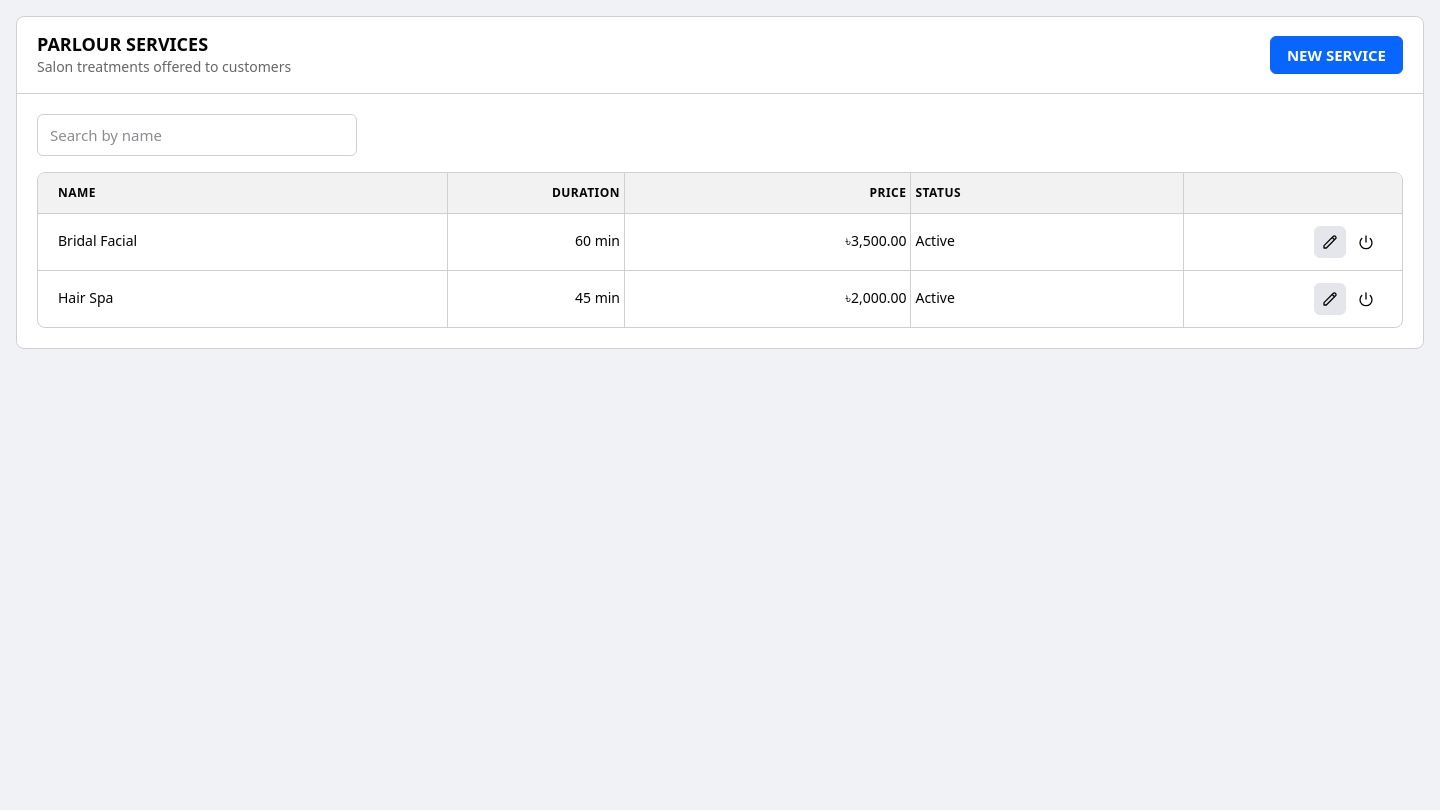
ServicesPage › submits a PATCH and updates the row when saving an edit
This screenshot has width=1440, height=810.
Expected: the text "Bridal Facial" is shown, [58,231,137,250]
Click the button named "edit" in the row of "Bridal Facial" at (1330, 242), box [1314,226,1346,258]
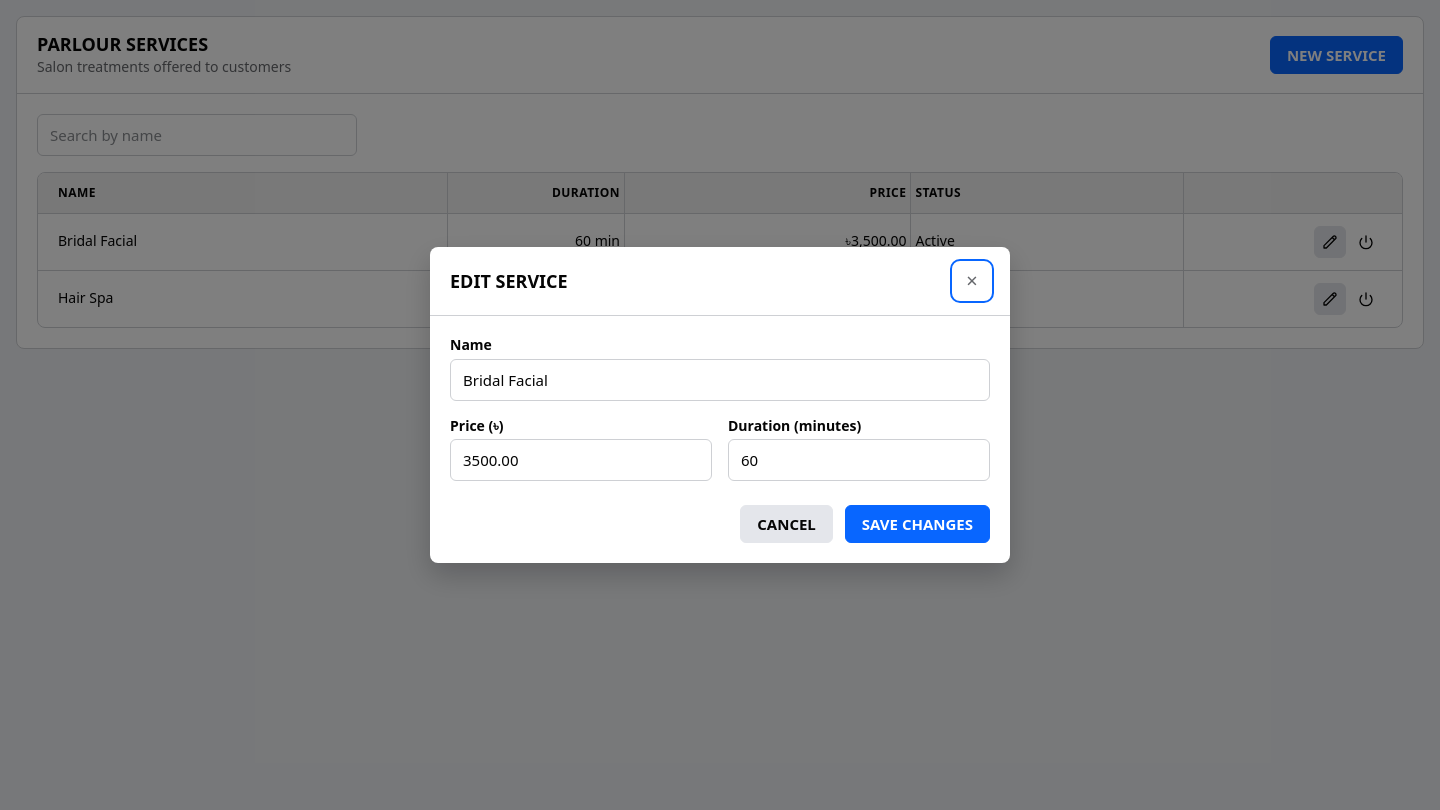
Replace the text in the field labelled "Name" with "Bridal Facial Deluxe" at (720, 380), box [450,358,990,400]
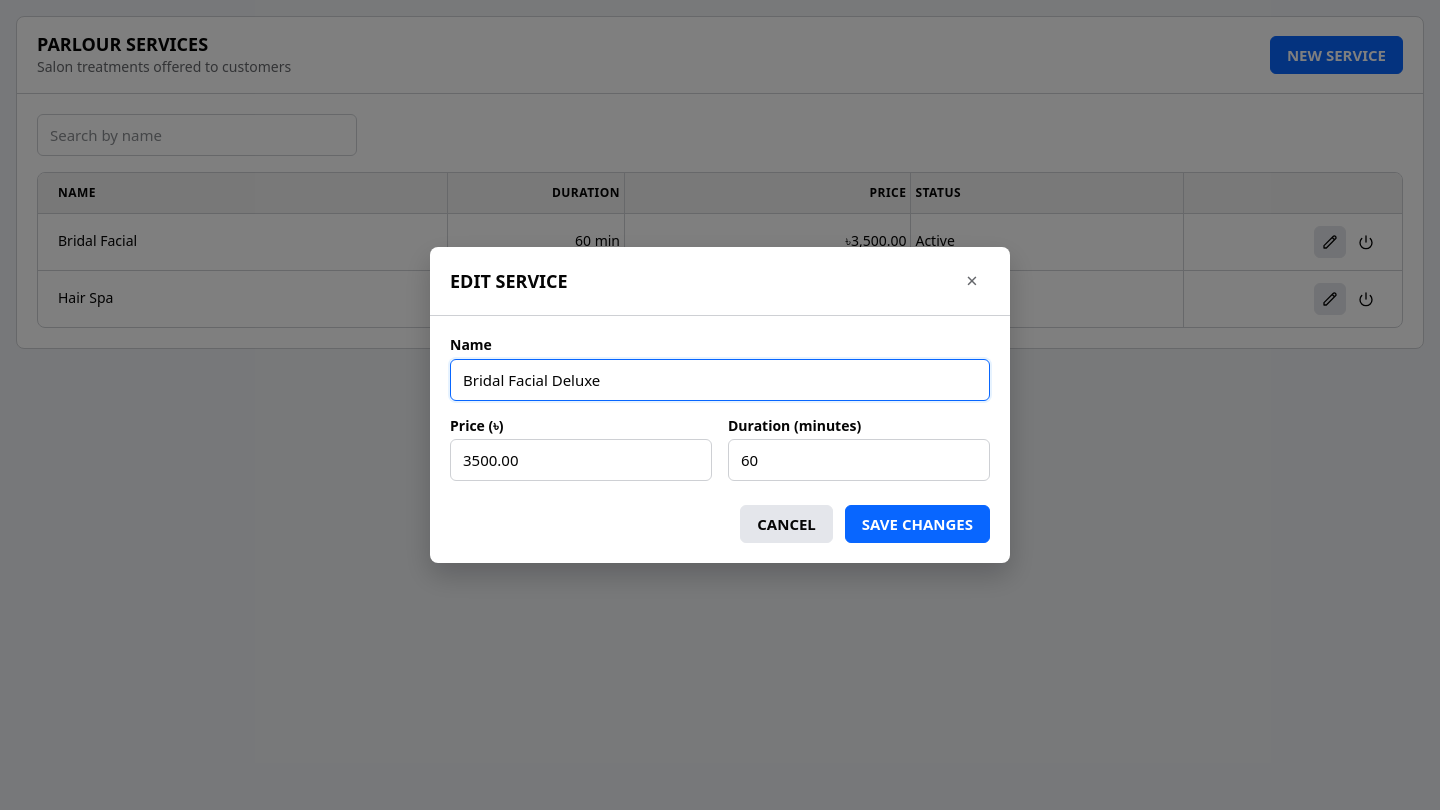
Click the button "Save changes" at (917, 524), box [845,505,990,543]
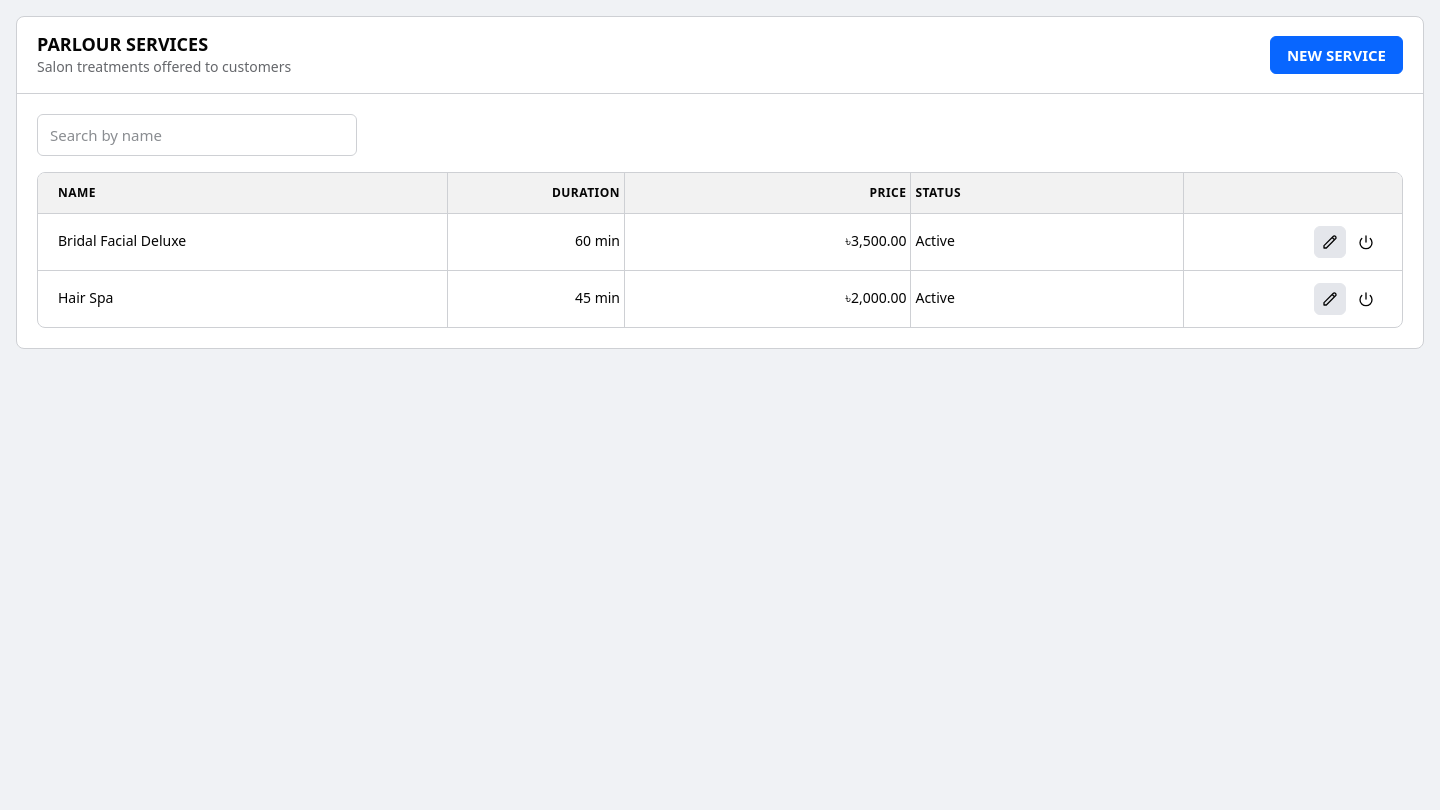
Result: the text "Bridal Facial Deluxe" is shown at [58,231,186,250]
